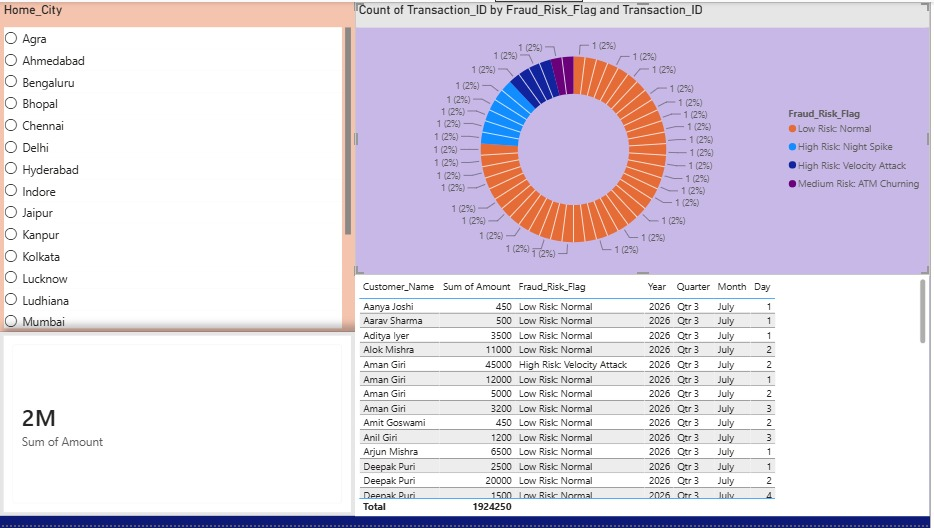

The page's visual inventory and layout, read from the dashboard file:
{"tool":"powerbi","page":{"name":"Page 1","canvas":[1280,720],"ordinal":0},"visuals":[{"type":"listSlicer","fields":{"Values":["FRAUD_ANALYSIS_DATA.Home_City"]},"box":[0,0,488.6,454.2],"z":0},{"type":"cardVisual","fields":{"Data":["Sum(FRAUD_ANALYSIS_DATA.Amount)"]},"box":[0,454.2,488.6,253.2],"z":1},{"type":"donutChart","fields":{"Category":["FRAUD_ANALYSIS_DATA.Fraud_Risk_Flag"],"Series":["FRAUD_ANALYSIS_DATA.Transaction_ID"],"Y":["CountNonNull(FRAUD_ANALYSIS_DATA.Transaction_ID)"]},"box":[488.6,0,791.4,375.7],"z":2},{"type":"tableEx","fields":{"Values":["FRAUD_ANALYSIS_DATA.Customer_Name","Sum(FRAUD_ANALYSIS_DATA.Amount)","FRAUD_ANALYSIS_DATA.Fraud_Risk_Flag","FRAUD_ANALYSIS_DATA.Txn_Timestamp.Variation.Date Hierarchy.Year","FRAUD_ANALYSIS_DATA.Txn_Timestamp.Variation.Date Hierarchy.Quarter","FRAUD_ANALYSIS_DATA.Txn_Timestamp.Variation.Date Hierarchy.Month","FRAUD_ANALYSIS_DATA.Txn_Timestamp.Variation.Date Hierarchy.Day"]},"box":[488.6,375.7,791.4,331.7],"z":3}]}

Visuals, with their boxes in screenshot pixels (x1, y1, x2, y2), scaled from the page's 1280x720 canvas onto the 934x528 screenshot:
listSlicer - FRAUD_ANALYSIS_DATA.Home_City: x1=0 y1=0 x2=357 y2=333
cardVisual - Sum(FRAUD_ANALYSIS_DATA.Amount): x1=0 y1=333 x2=357 y2=519
donutChart - FRAUD_ANALYSIS_DATA.Fraud_Risk_Flag x FRAUD_ANALYSIS_DATA.Transaction_ID: x1=357 y1=0 x2=933 y2=276
tableEx - FRAUD_ANALYSIS_DATA.Customer_Name x Sum(FRAUD_ANALYSIS_DATA.Amount): x1=357 y1=276 x2=933 y2=519
